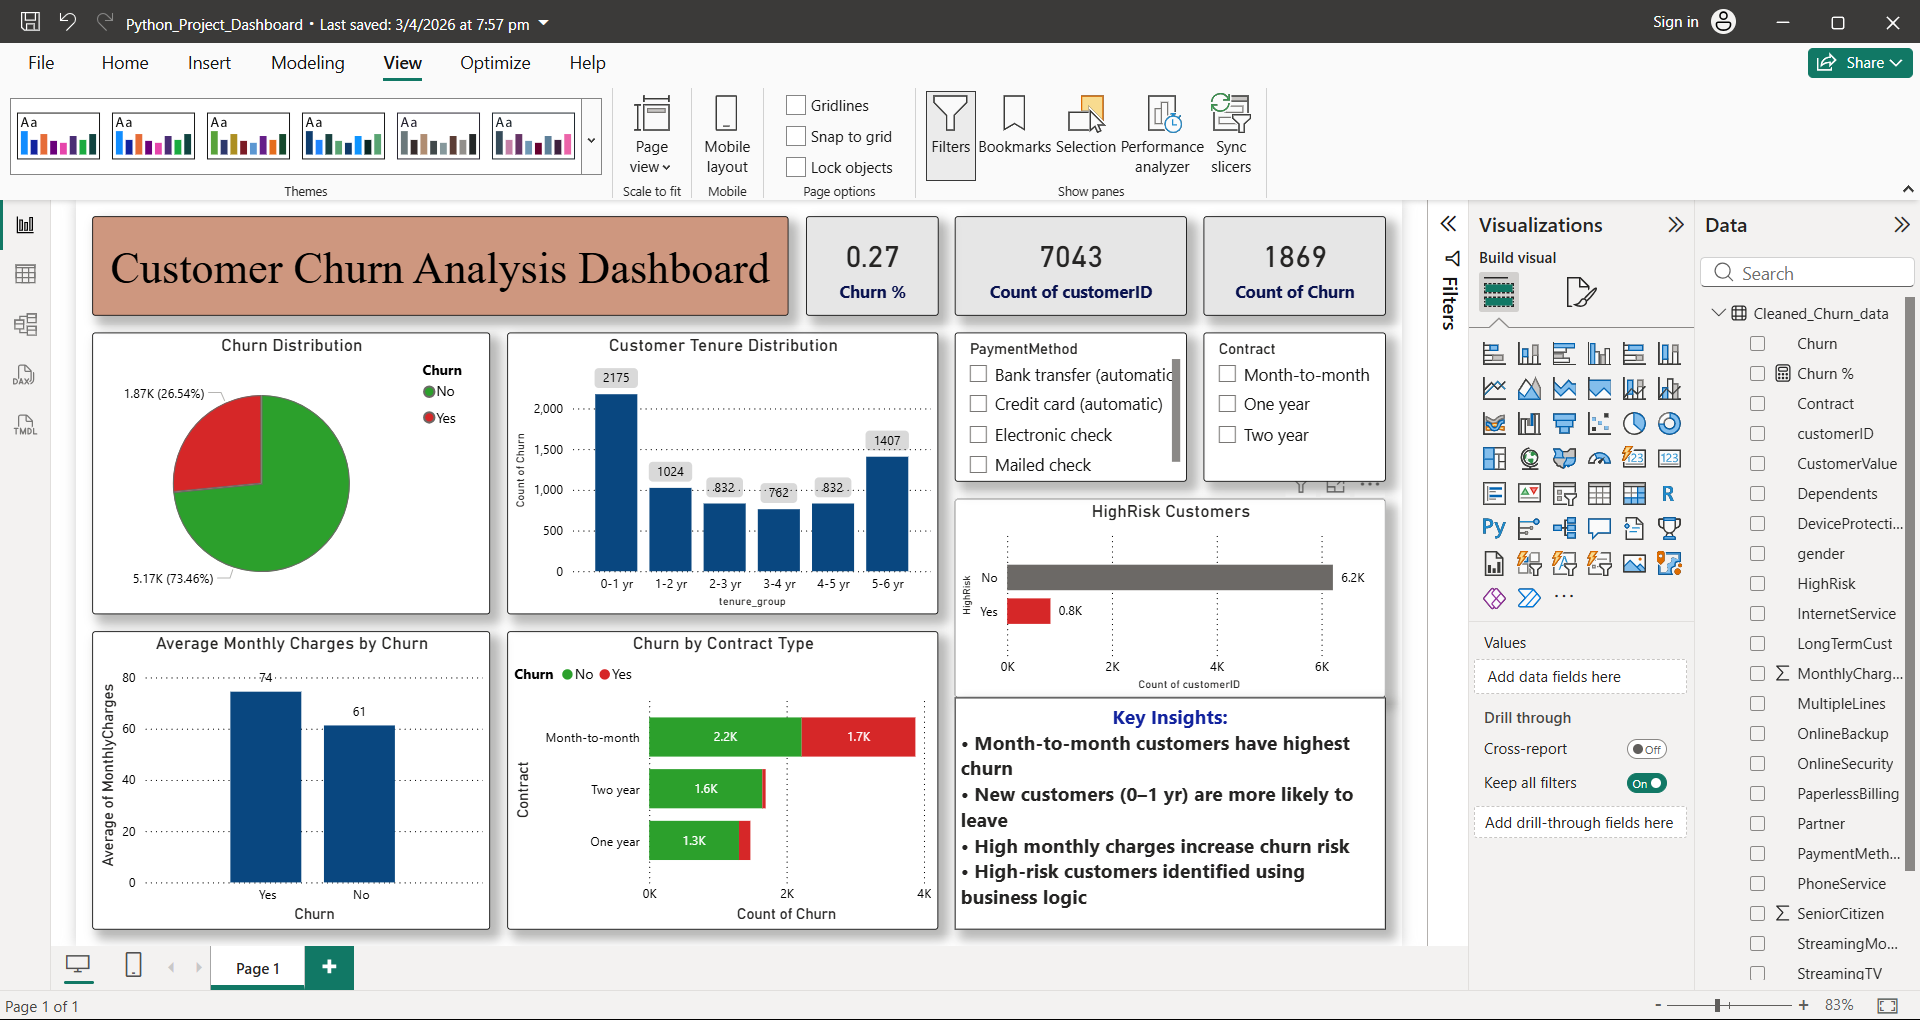

This screenshot's page, from the dashboard's own definition file:
{"tool":"powerbi","page":{"name":"Page 1","canvas":[1280,720],"ordinal":0},"visuals":[{"type":"pieChart","title":"Churn Distribution","fields":{"Category":["Cleaned_Churn_data (2).Churn"],"Y":["CountNonNull(Cleaned_Churn_data (2).Churn)"]},"box":[16,128,368,272],"z":0},{"type":"barChart","title":"Churn by Contract Type","fields":{"Category":["Cleaned_Churn_data (2).Contract"],"Series":["Cleaned_Churn_data (2).Churn"],"Y":["CountNonNull(Cleaned_Churn_data (2).Churn)"]},"box":[400,416,432,304],"z":1000},{"type":"columnChart","title":"Customer Tenure Distribution","fields":{"Category":["Cleaned_Churn_data (2).tenure_group"],"Y":["CountNonNull(Cleaned_Churn_data (2).Churn)"]},"box":[400,128,432,272],"z":2000},{"type":"clusteredColumnChart","title":"Average Monthly Charges by Churn","fields":{"Category":["Cleaned_Churn_data (2).Churn"],"Y":["Avg(Cleaned_Churn_data (2).MonthlyCharges)"]},"box":[16,416,368,304],"z":3000},{"type":"barChart","title":" HighRisk Customers ","fields":{"Category":["Cleaned_Churn_data (2).HighRisk"],"Y":["CountNonNull(Cleaned_Churn_data (2).customerID)"]},"box":[848,320,416,192],"z":4000},{"type":"card","title":"Total Customers","fields":{"Values":["CountNonNull(Cleaned_Churn_data (2).customerID)"]},"box":[928,16,192,96],"z":5000},{"type":"card","fields":{"Values":["CountNonNull(Cleaned_Churn_data (2).Churn)"]},"box":[1136,16,144,96],"z":6000},{"type":"slicer","fields":{"Values":["Cleaned_Churn_data (2).Contract"]},"box":[1088,128,176,176],"z":7000},{"type":"slicer","fields":{"Values":["Cleaned_Churn_data (2).PaymentMethod"]},"box":[848,128,224,176],"z":8000},{"type":"textbox","title":"Customer Churn Analysis Dashboard","box":[16,16,752,96],"z":9000},{"type":"card","title":"Total Customers","fields":{"Values":["Cleaned_Churn_data.Churn %"]},"box":[784,16,128,96],"z":9001},{"type":"textbox","box":[848,528,416,176],"z":9002}]}

Visuals, with their boxes on the page's 1280x720 design canvas (x1, y1, x2, y2). These are canvas units, not pixel positions in the 1920x1020 screenshot, which may show the page scaled, cropped or inside an application window:
"Churn Distribution" pieChart: BBox(16, 128, 384, 400)
"Churn by Contract Type" barChart: BBox(400, 416, 832, 720)
"Customer Tenure Distribution" columnChart: BBox(400, 128, 832, 400)
"Average Monthly Charges by Churn" clusteredColumnChart: BBox(16, 416, 384, 720)
" HighRisk Customers " barChart: BBox(848, 320, 1264, 512)
"Total Customers" card: BBox(928, 16, 1120, 112)
card - CountNonNull(Cleaned_Churn_data (2).Churn): BBox(1136, 16, 1280, 112)
slicer - Cleaned_Churn_data (2).Contract: BBox(1088, 128, 1264, 304)
slicer - Cleaned_Churn_data (2).PaymentMethod: BBox(848, 128, 1072, 304)
"Customer Churn Analysis Dashboard" textbox: BBox(16, 16, 768, 112)
"Total Customers" card: BBox(784, 16, 912, 112)
textbox: BBox(848, 528, 1264, 704)
